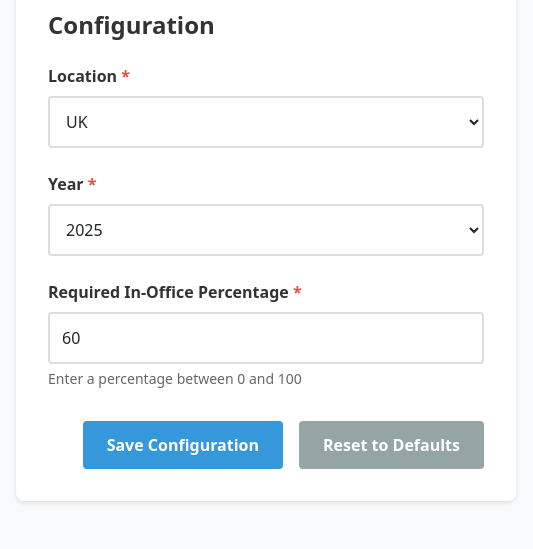
Test: ConfigurationForm › Form Validation › shows error when location is not selected
Clear location and submit
Select "Select a location" in the dropdown labelled "Location *" at x=266, y=122, box [48,96,484,148]
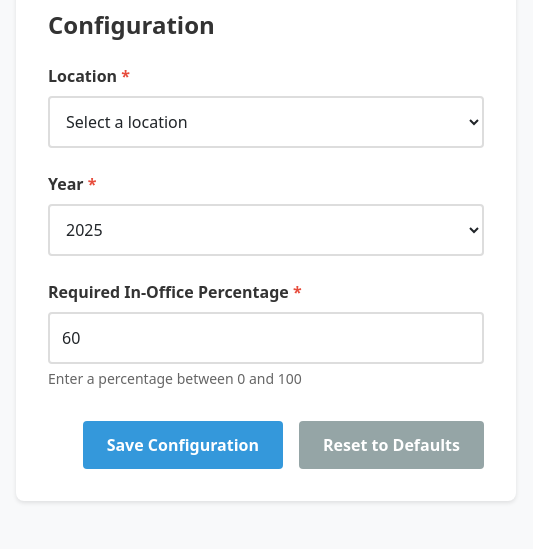
Click the button "Save Configuration" at x=183, y=445, box [83,421,283,469]
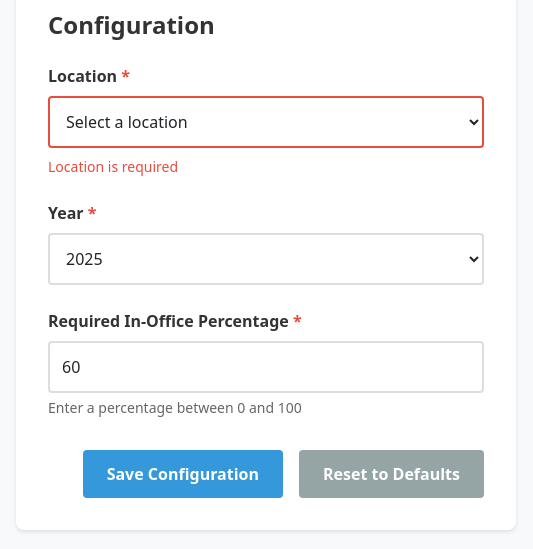
Now the text "Location is required" is shown, box [48,157,178,176]
